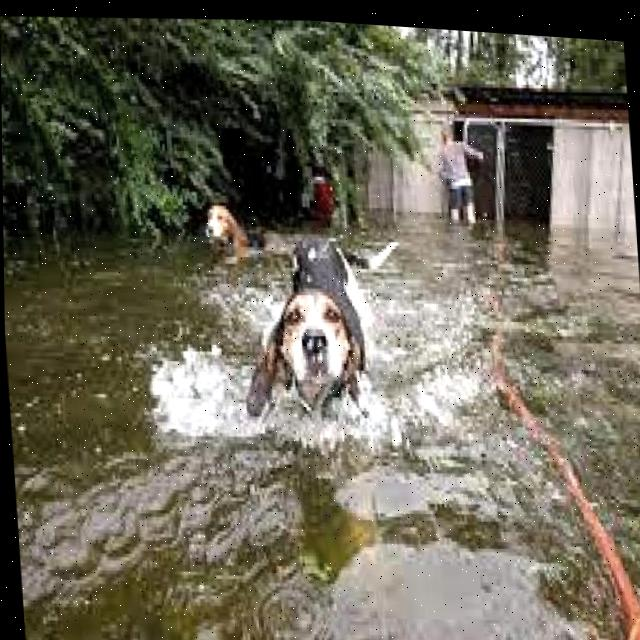civilian: (423, 118, 491, 230)
dog: (257, 224, 392, 427), (195, 199, 251, 266)
